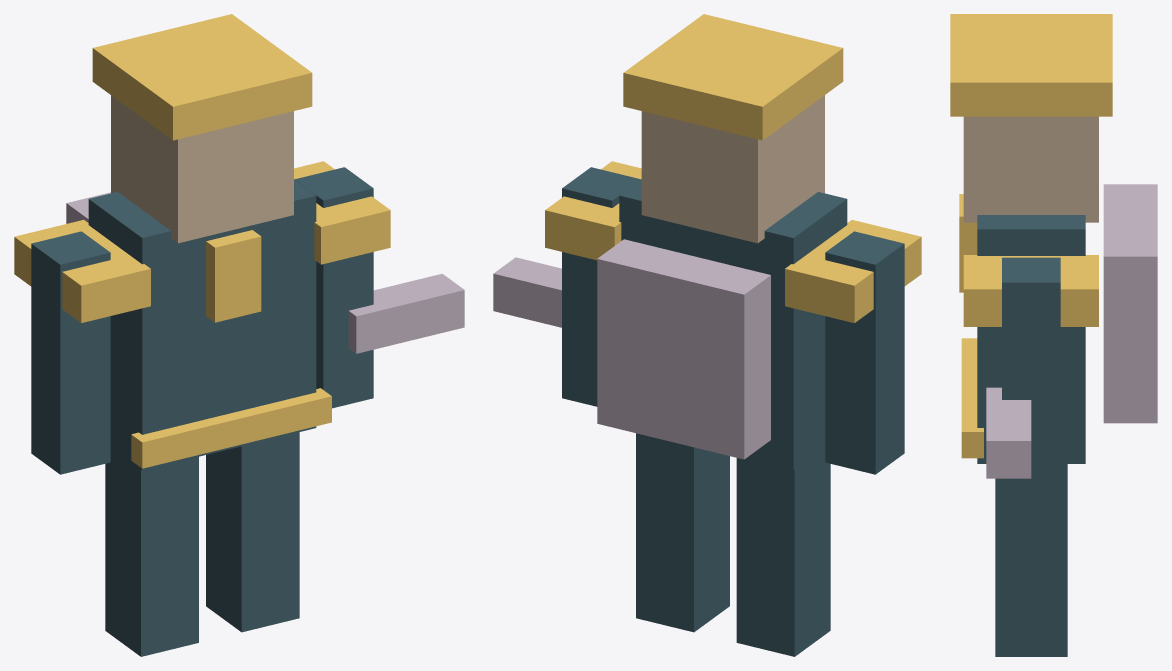
Rendered from 17_orin_deepwell_warden_near_echoing.glb.
3 views of the same model, side by side, from view 1: azimuth 30°, elevation 25°; view 2: azimuth 150°, elevation 25°; view 3: azimuth 270°, elevation 25° (orthographic).
Parts seen in each view (by area): view 1: Orin Deepwell, Warden near Echoing; view 2: Orin Deepwell, Warden near Echoing; view 3: Orin Deepwell, Warden near Echoing.
Boxes of the visible parts, bbox=[...] form: Orin Deepwell, Warden near Echoing: bbox=[14, 14, 464, 656]; Orin Deepwell, Warden near Echoing: bbox=[493, 14, 921, 656]; Orin Deepwell, Warden near Echoing: bbox=[950, 14, 1157, 656].
Size of the model in its own units: 1.03 by 1.4 by 0.462.
